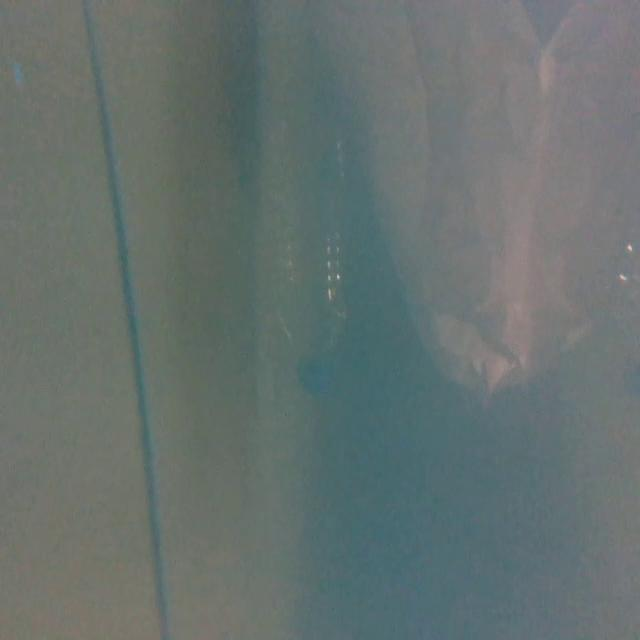plastic bags: (349, 0, 640, 400)
plastic bottle: (255, 114, 346, 393)
